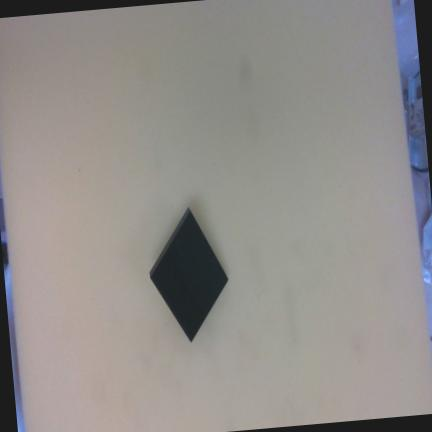tile: (132, 213, 248, 343)
